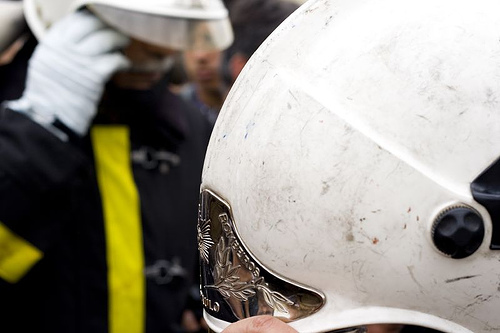helmet: (196, 3, 498, 332)
